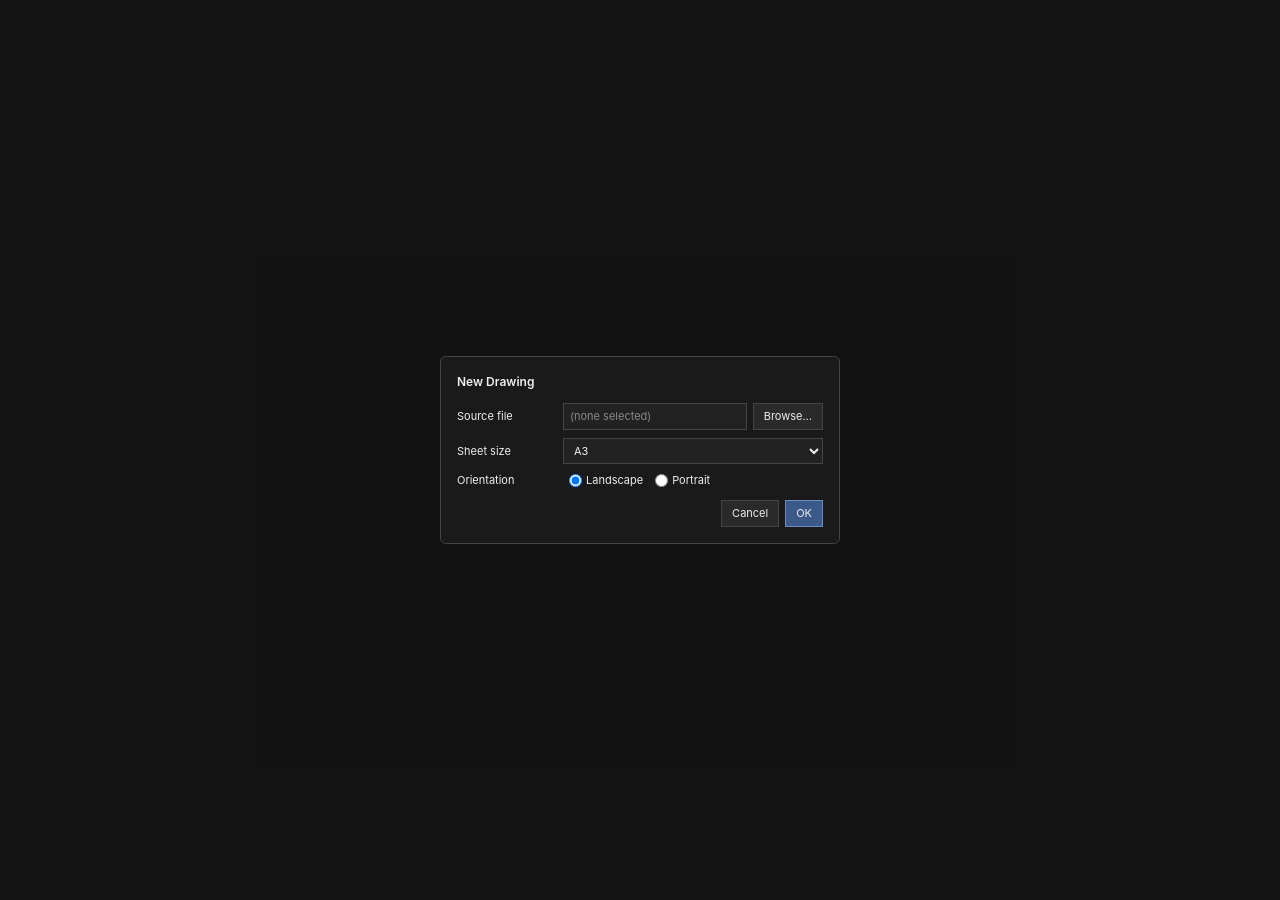
Test: NewDrawingDialog › shows width + height inputs only when Custom is selected
Note: Switch to Custom
Select "Custom" in the dropdown labelled "Sheet size" at x=693, y=451, box [563,438,823,464]
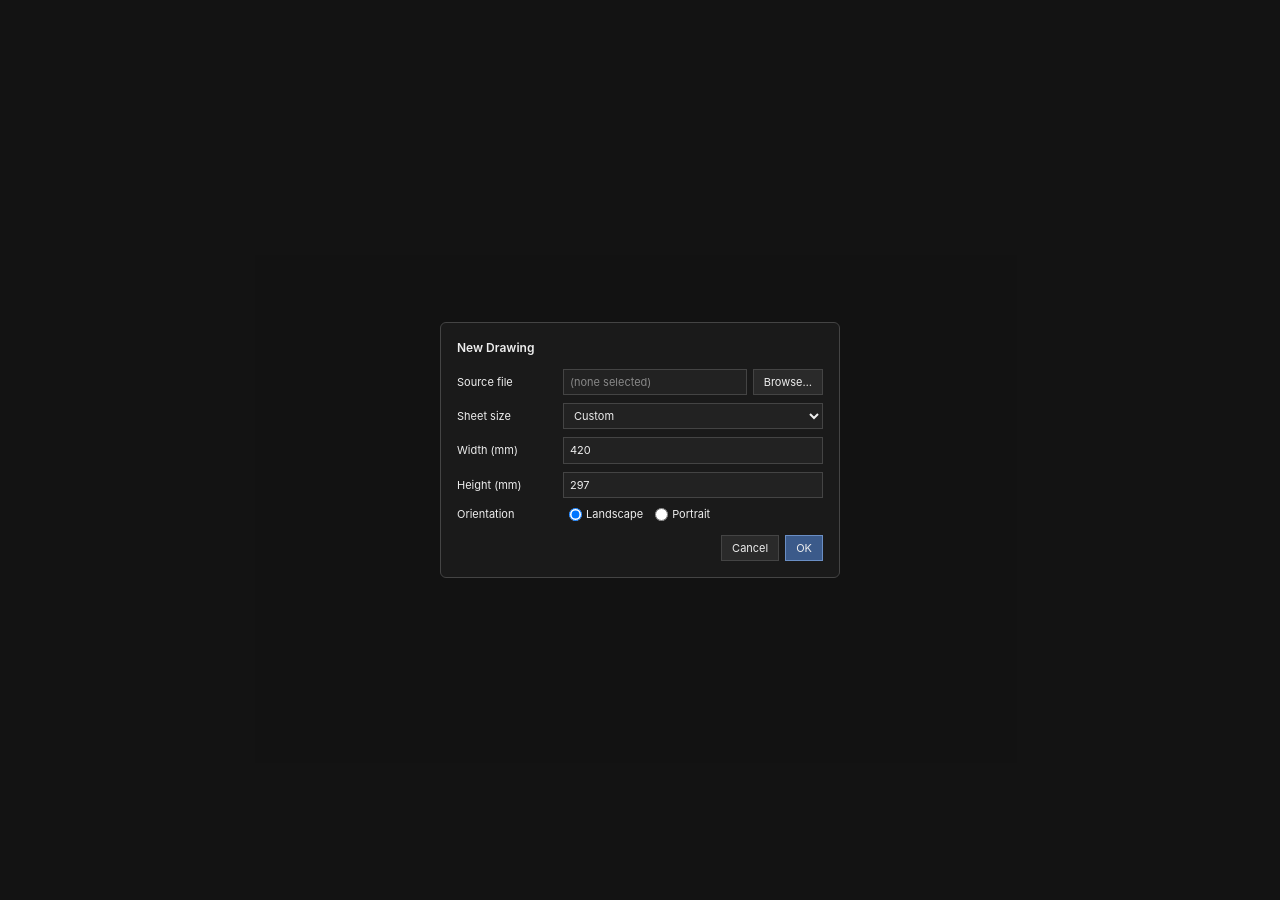
Expected: the number field labelled "Width (mm)" is shown, [563,437,823,464]
Expected: the number field labelled "Height (mm)" is shown, [563,472,823,498]
